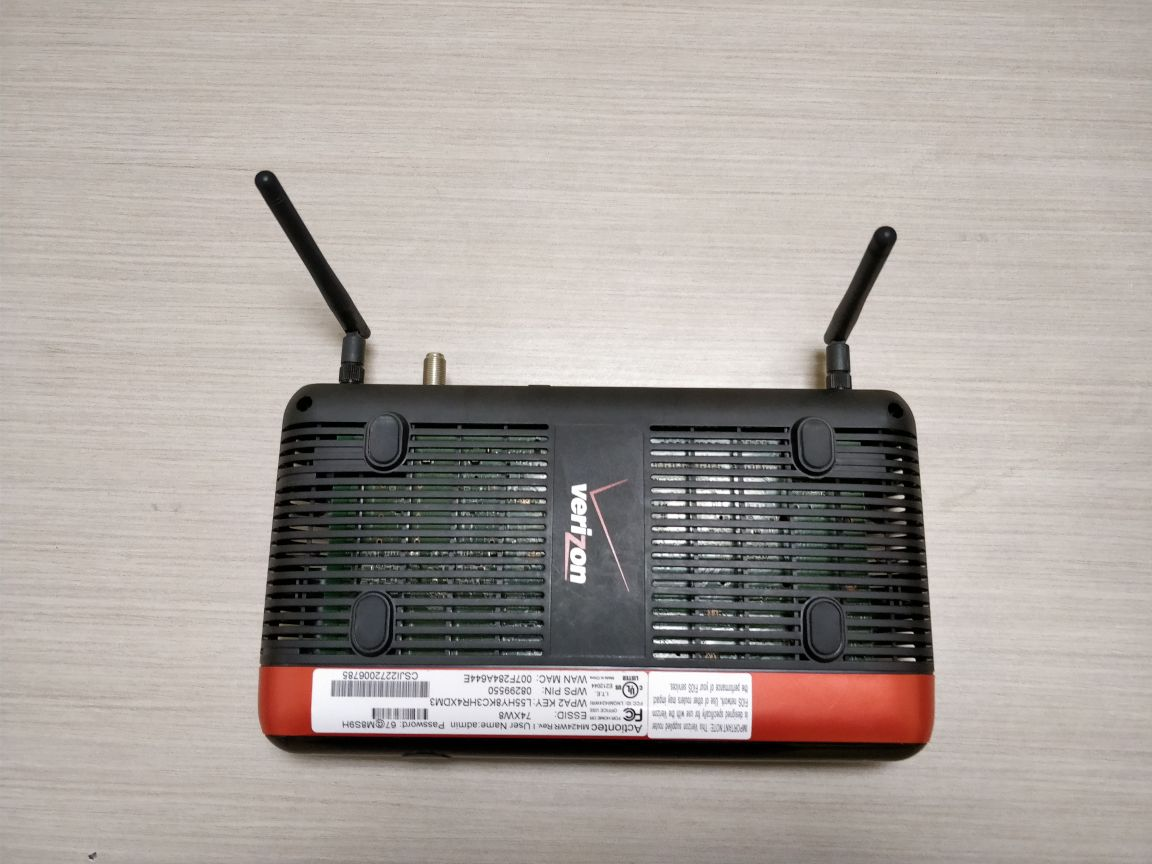Verizon Router: (205, 138, 1053, 833)
